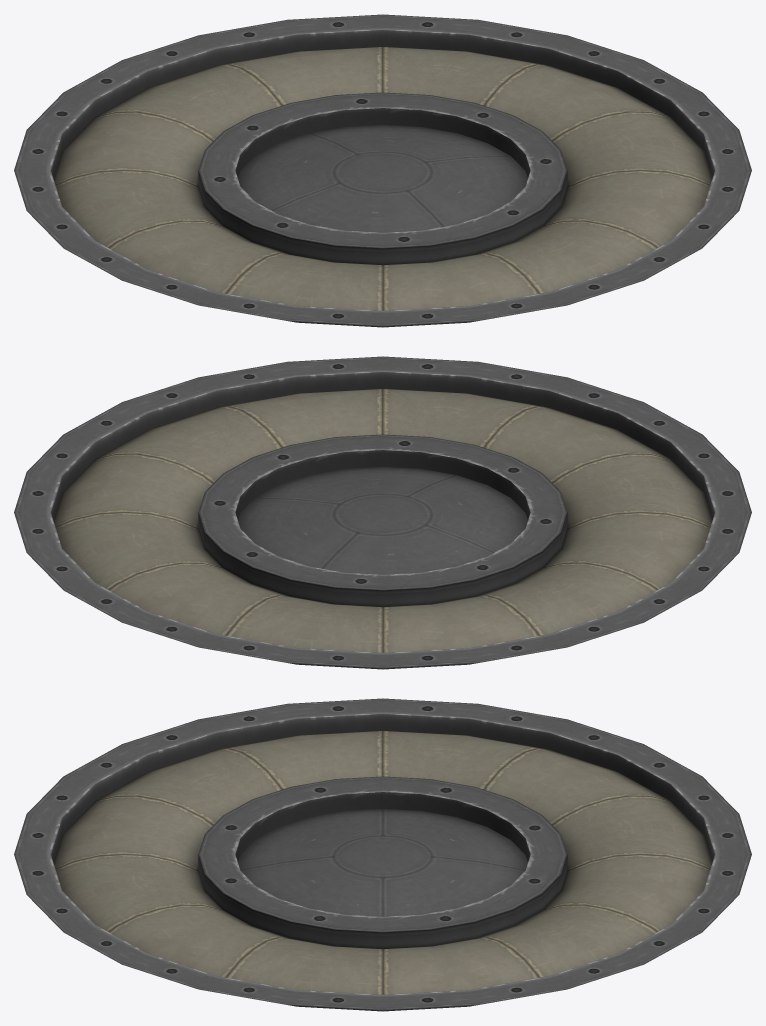
The model's file is end_basic_s2.obj.
3 views of the same model, one above another, from view 1: azimuth 30°, elevation 25°; view 2: azimuth 150°, elevation 25°; view 3: azimuth 270°, elevation 25° (orthographic).
Visible parts, largest first — view 1: end; view 2: end; view 3: end.
Boxes of the visible parts, x1,y1,x2,y2 form: end: (14,14,751,327); end: (14,356,751,669); end: (14,698,751,1011).
Bounding box in the file's own units: 2.5 × 0.0625 × 2.5.
